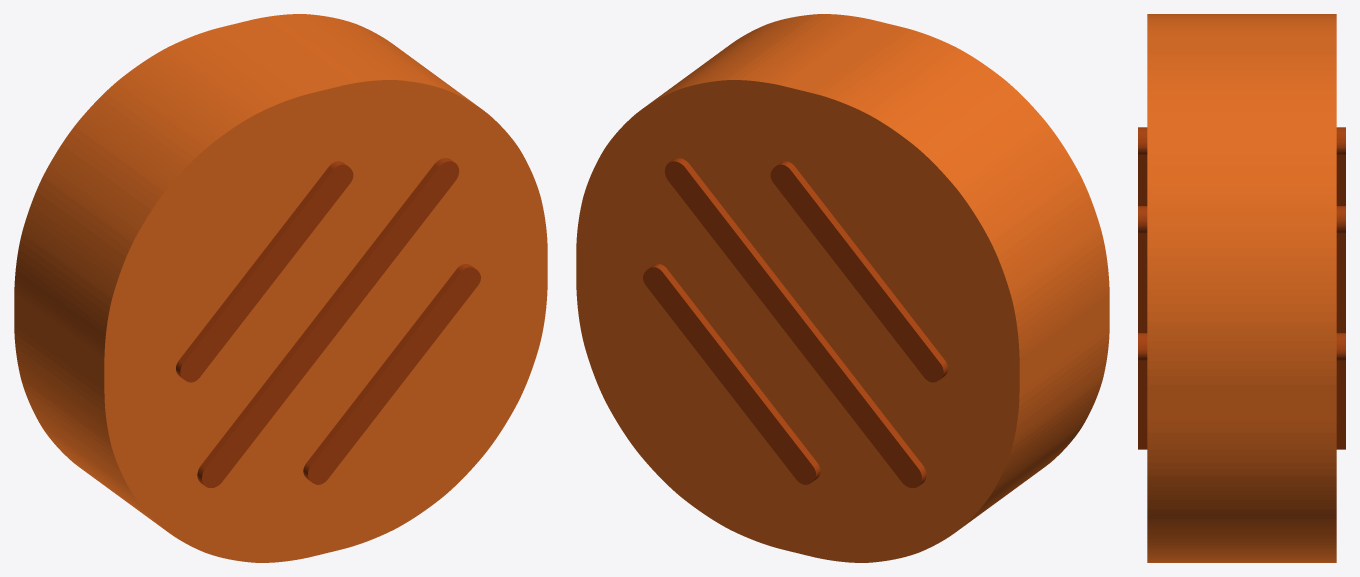
The model's file is U+1FAD3.obj.
The picture shows the model from 3 angles, left to right: view 1: azimuth 30°, elevation 25°; view 2: azimuth 150°, elevation 25°; view 3: azimuth 270°, elevation 25°; orthographic projection. The views are drawn at different scales.
Parts seen in each view (by area): view 1: U+1FAD3_layer00_obj00, U+1FAD3_layer01_obj00; view 2: U+1FAD3_layer00_obj00, U+1FAD3_layer01_obj00; view 3: U+1FAD3_layer00_obj00, U+1FAD3_layer01_obj00.
Part boxes in pixels (left/top/right/bottom): U+1FAD3_layer00_obj00: left=14, top=14, right=547, bottom=562; U+1FAD3_layer01_obj00: left=176, top=158, right=480, bottom=487; U+1FAD3_layer00_obj00: left=576, top=14, right=1109, bottom=562; U+1FAD3_layer01_obj00: left=643, top=158, right=947, bottom=487; U+1FAD3_layer00_obj00: left=1147, top=14, right=1336, bottom=562; U+1FAD3_layer01_obj00: left=1138, top=127, right=1345, bottom=449.
Size of the model in its own units: 0.5678 by 0.5677 by 0.22.
